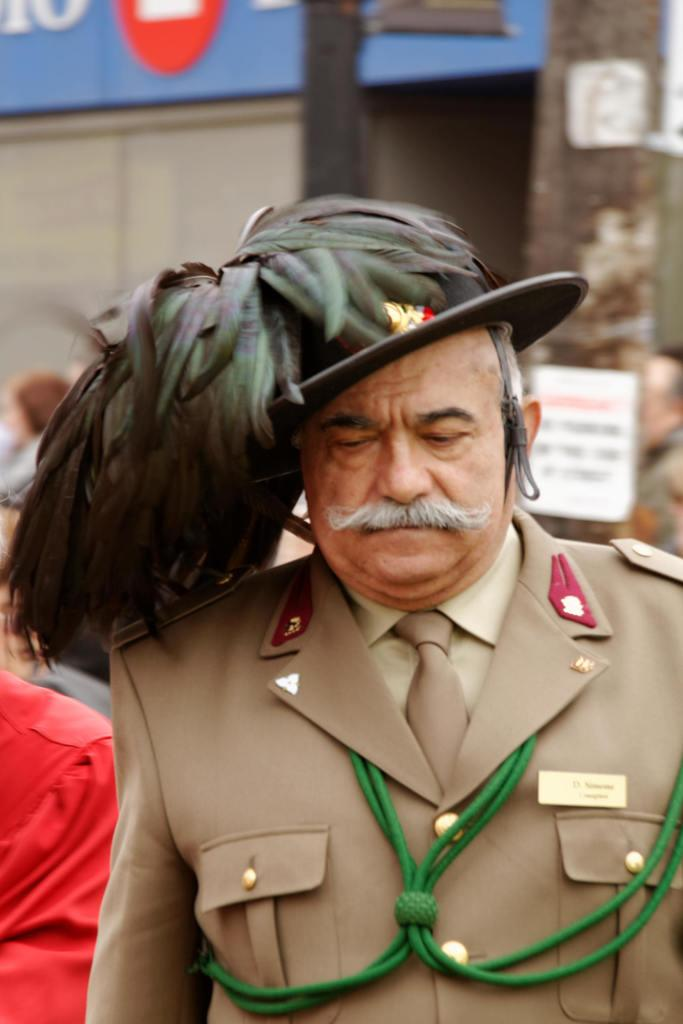Hat: (4, 204, 590, 678)
